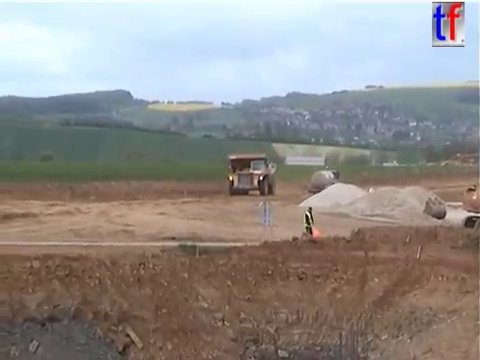excavator: (460, 182, 480, 240)
truck: (224, 153, 278, 196), (304, 165, 341, 199)
worker: (301, 204, 317, 243)
